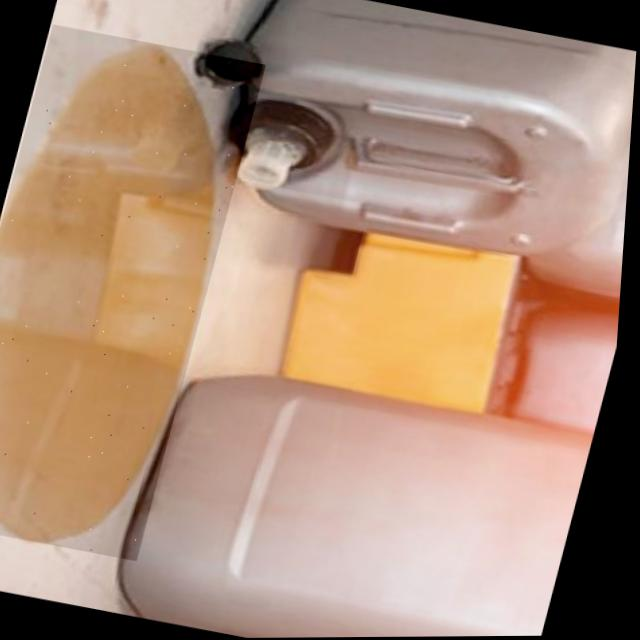spillage: (0, 44, 217, 541)
